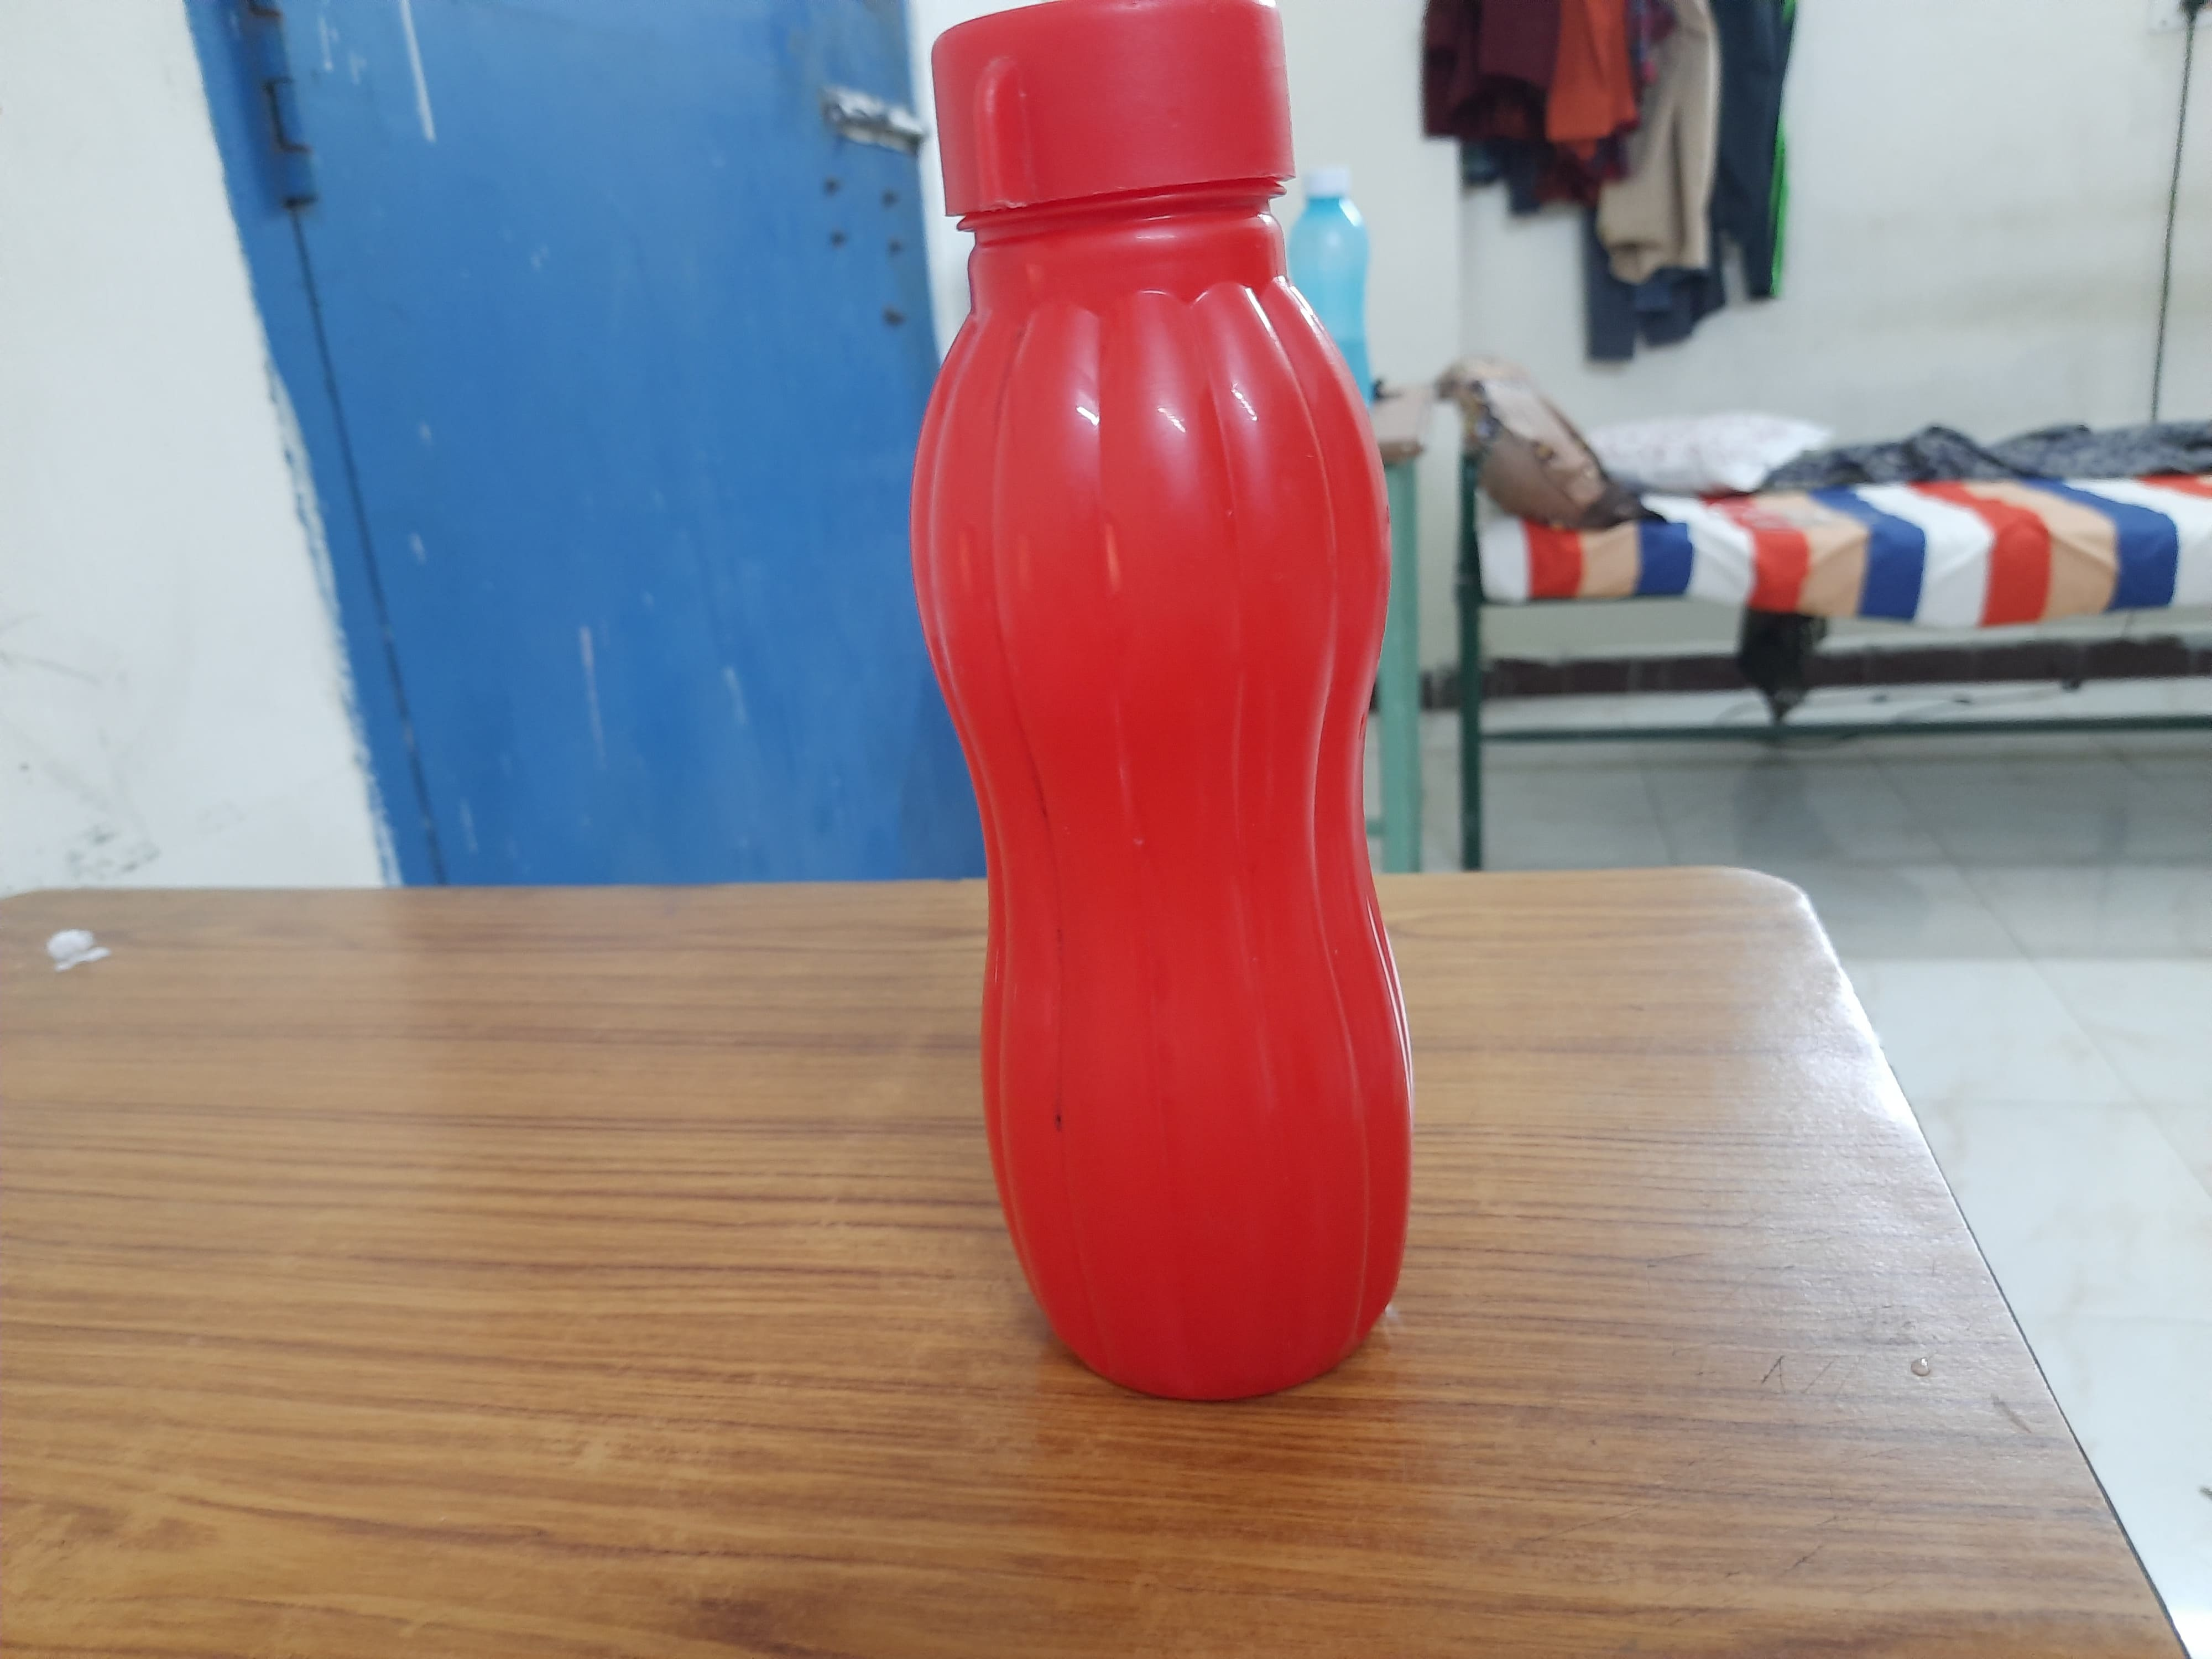Vikash's Water Bottle: (885, 5, 1453, 1403)
